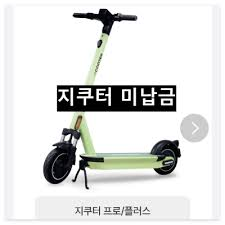kick_body: (89, 152, 153, 168)
kick_handler: (73, 8, 137, 34)
kick_wheel: (43, 144, 73, 185), (155, 140, 180, 175)
